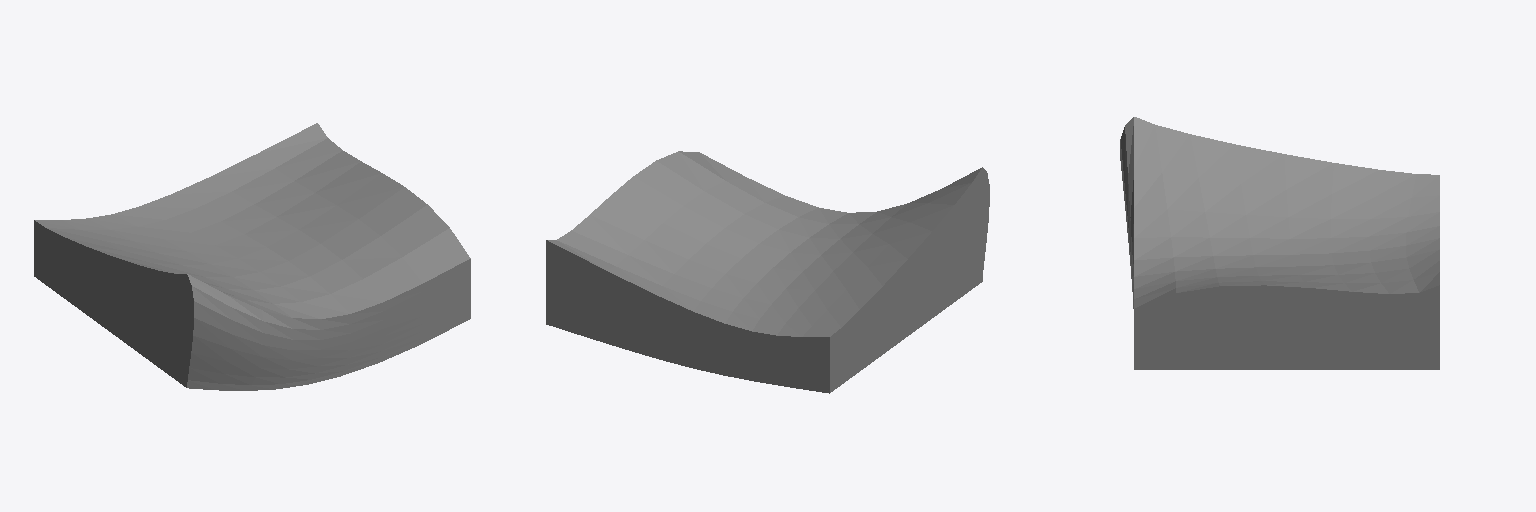
The model's file is wacky_plane.obj.
3 renders of one model, left to right at view 1: azimuth 30°, elevation 25°; view 2: azimuth 150°, elevation 25°; view 3: azimuth 270°, elevation 25°, orthographic.
Parts seen in each view (by area): view 1: Box001; view 2: Box001; view 3: Box001.
Part boxes in pixels (x1,y1,x2,y2): Box001: (34, 123, 470, 390); Box001: (546, 151, 989, 393); Box001: (1120, 117, 1439, 369).
Bounding box in the file's own units: 1276 × 605 × 1247.